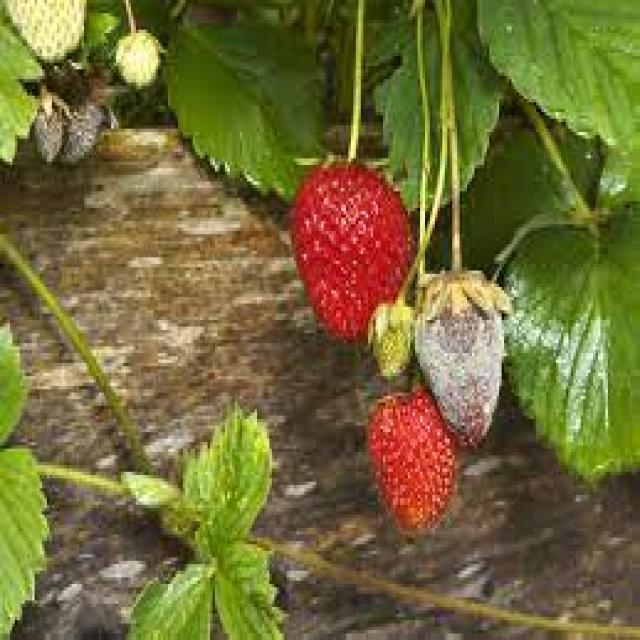Fruta sana: (294, 182, 415, 346), (365, 396, 458, 528)
Oído: (418, 268, 512, 444)
